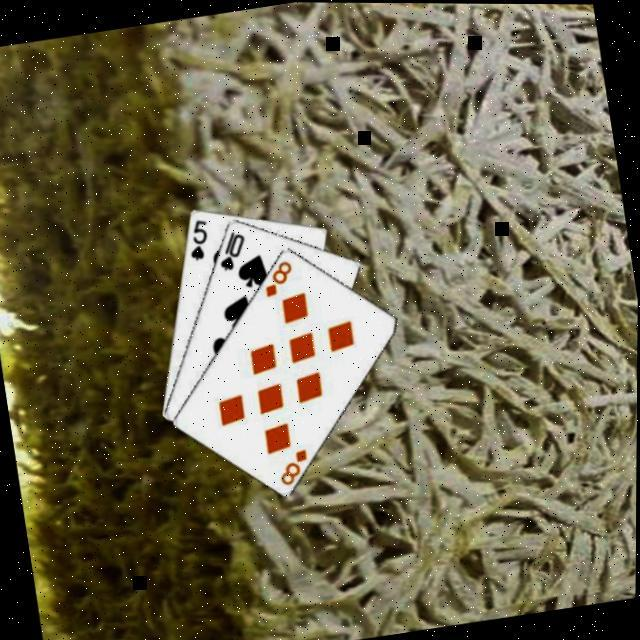10S: (213, 225, 253, 273)
5S: (183, 213, 216, 262)
8D: (258, 254, 300, 298), (276, 444, 316, 488)
